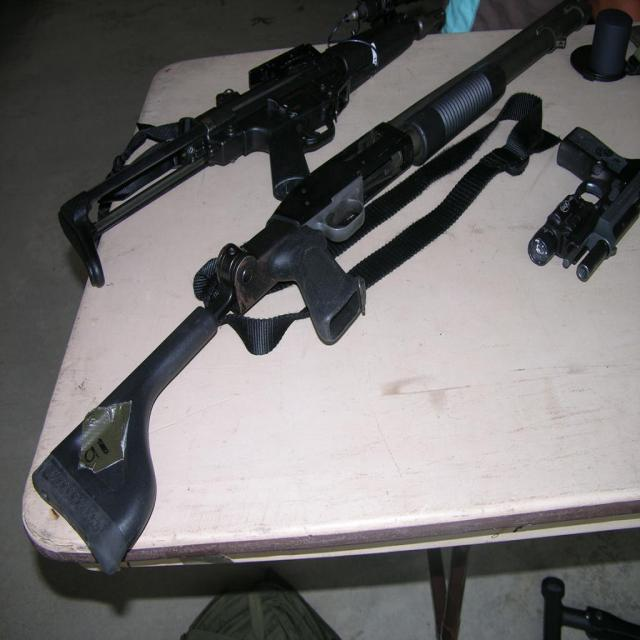weapon: (31, 0, 597, 576), (56, 0, 448, 289)
